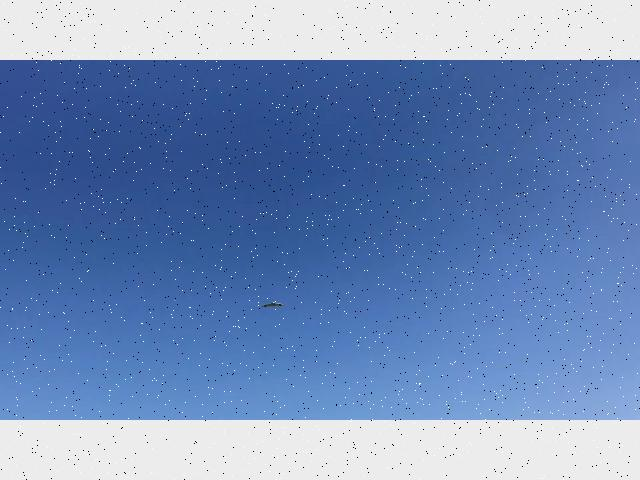Anti-Drone: (248, 294, 296, 318)
